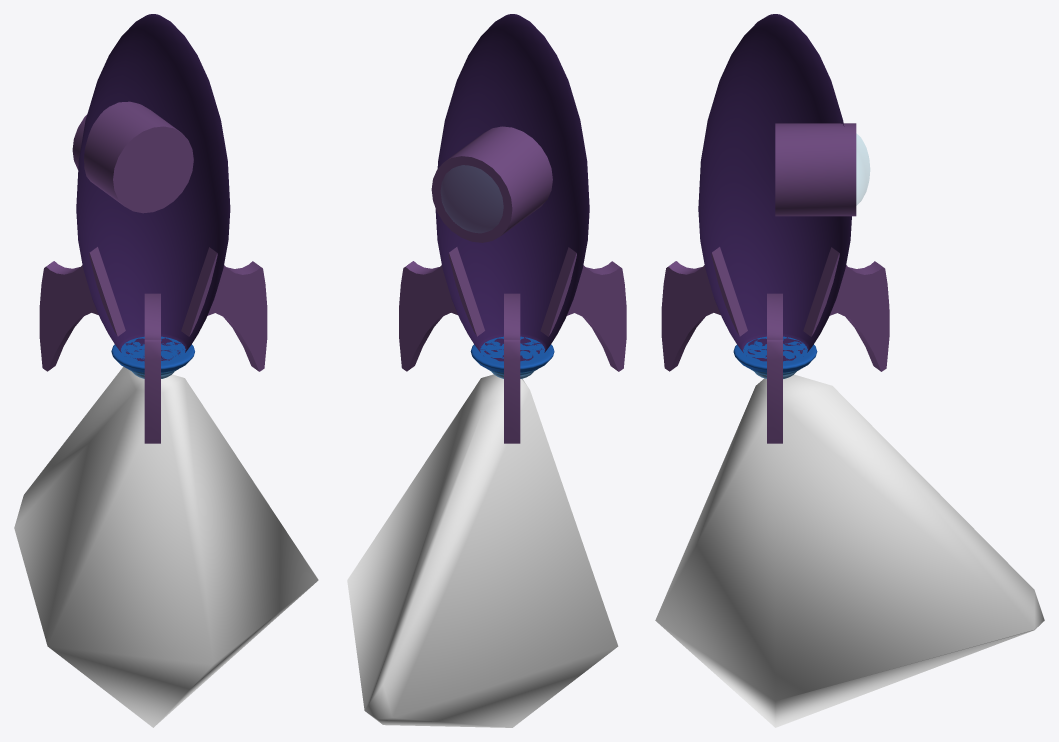
File: pro.fbx
3 renders of one model, left to right at view 1: azimuth 30°, elevation 25°; view 2: azimuth 150°, elevation 25°; view 3: azimuth 270°, elevation 25°, orthographic.
Parts seen in each view (by area): view 1: Metaball_1, Rotazione, Tappo_1_4, Estrusione_1_2_2, Tappo_1, Tappo_2_3, Estrusione_1_2, Rotazione_1, Estrusione_1_3, Estrusione_1_1; view 2: Metaball_1, Rotazione, Tappo_2_4, Estrusione_1_2_2, Tappo_1_2, Tappo_2, Sfera, Estrusione_1_1, Rotazione_1, Estrusione_1_3, Estrusione_1_2; view 3: Metaball_1, Rotazione, Estrusione_1_2_2, Tappo_1_3, Tappo_2_2, Estrusione_1_3, Rotazione_1, Estrusione_1_1, Estrusione_1_2, Sfera.
Part boxes in pixels (box(x1,y1,x2,y2)): Metaball_1: box(14, 367, 318, 727); Rotazione: box(76, 14, 230, 361); Tappo_1_4: box(113, 126, 193, 213); Estrusione_1_2_2: box(72, 101, 179, 206); Tappo_1: box(189, 253, 267, 371); Tappo_2_3: box(39, 253, 117, 371); Estrusione_1_2: box(144, 293, 160, 443); Rotazione_1: box(111, 336, 194, 372); Estrusione_1_3: box(181, 247, 260, 371); Estrusione_1_1: box(46, 247, 125, 370); Metaball_1: box(347, 374, 618, 727); Rotazione: box(435, 14, 589, 361); Tappo_2_4: box(431, 156, 512, 242); Estrusione_1_2_2: box(445, 126, 552, 235); Tappo_1_2: box(549, 253, 626, 371); Tappo_2: box(399, 253, 476, 371); Sfera: box(441, 165, 502, 232); Estrusione_1_1: box(504, 293, 520, 443); Rotazione_1: box(470, 336, 554, 372); Estrusione_1_3: box(405, 247, 484, 371); Estrusione_1_2: box(540, 247, 619, 371); Metaball_1: box(655, 374, 1044, 727); Rotazione: box(698, 14, 851, 361); Estrusione_1_2_2: box(775, 123, 856, 216); Tappo_1_3: box(812, 253, 889, 371); Tappo_2_2: box(661, 253, 739, 371); Estrusione_1_3: box(767, 293, 782, 443); Rotazione_1: box(733, 336, 817, 372); Estrusione_1_1: box(803, 247, 882, 371); Estrusione_1_2: box(668, 247, 747, 370); Sfera: box(856, 134, 869, 205).
Bounding box in the file's own units: 38.68 × 97.14 × 48.11.
